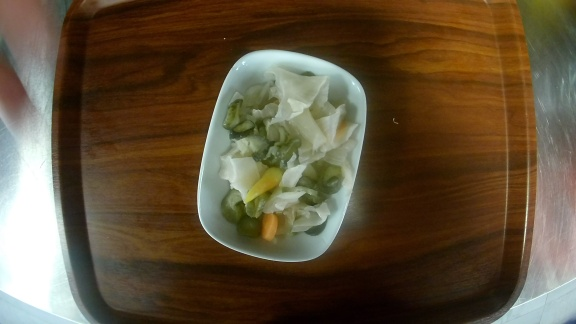tursu: (197, 47, 368, 263)
